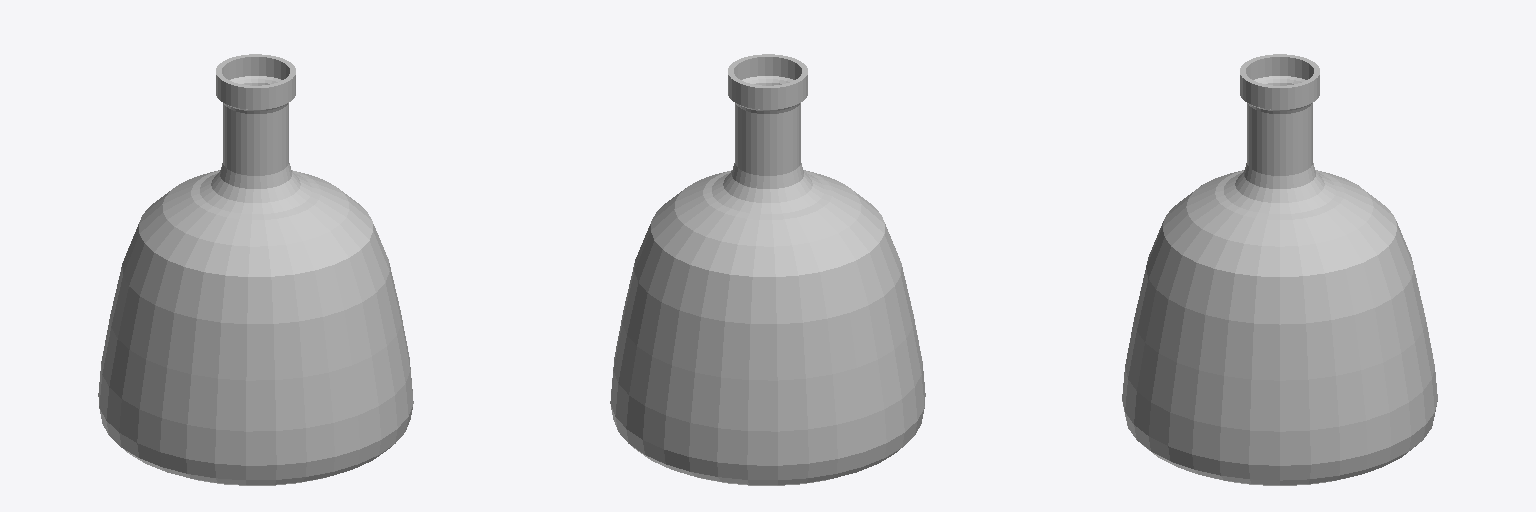
The model's file is PotionBottle.obj.
The picture shows the model from 3 angles: view 1: azimuth 30°, elevation 25°; view 2: azimuth 150°, elevation 25°; view 3: azimuth 270°, elevation 25°; orthographic projection.
Parts seen in each view (by area): view 1: Sphere.001; view 2: Sphere.001; view 3: Sphere.001.
Part boxes in pixels (x1,y1,x2,y2): Sphere.001: (98,54,413,485); Sphere.001: (610,54,925,485); Sphere.001: (1122,54,1437,485).
Bounding box in the file's own units: 1.86 × 2.4 × 1.86.